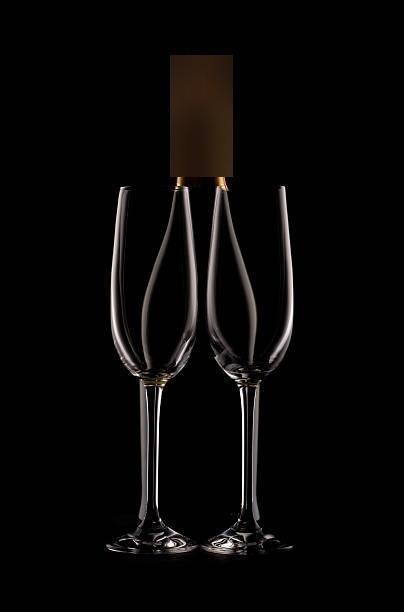glass-wine: (198, 186, 305, 557), (100, 180, 204, 557)
